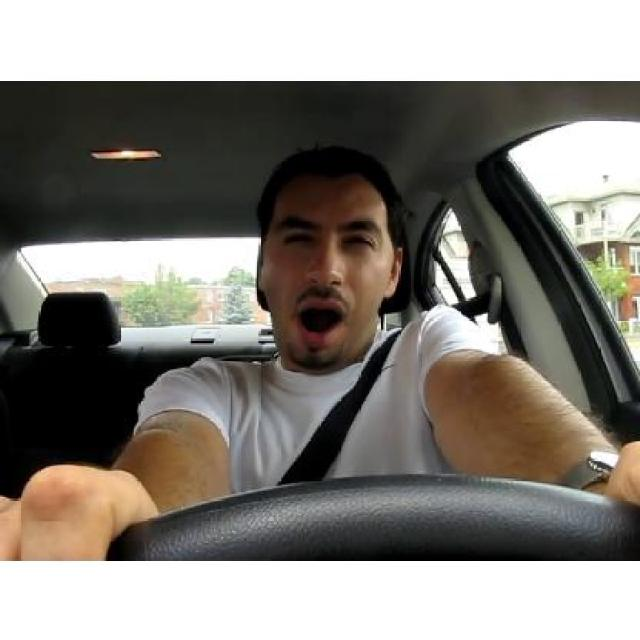inattentif: (260, 144, 402, 373)
